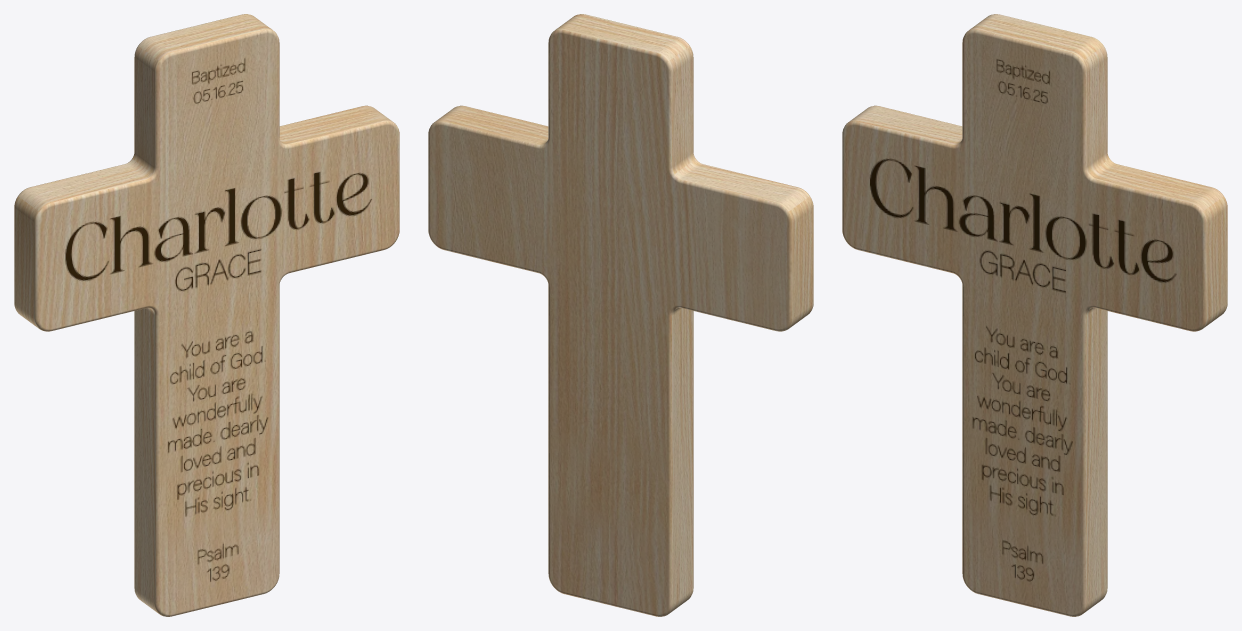
The model's file is Baptism_Cross1.glb.
The picture shows the model from 3 angles, left to right: view 1: azimuth 30°, elevation 25°; view 2: azimuth 150°, elevation 25°; view 3: azimuth 330°, elevation 25°; orthographic projection.
Parts seen in each view (by area): view 1: Plane001; view 2: Plane001; view 3: Plane001.
Part boxes in pixels (<box>): Plane001: <box>14,14,399,616</box>; Plane001: <box>428,14,813,616</box>; Plane001: <box>842,14,1227,616</box>.
Size of the model in its own units: 0.1717 by 0.254 by 0.019.
1 material, 1 textured.
